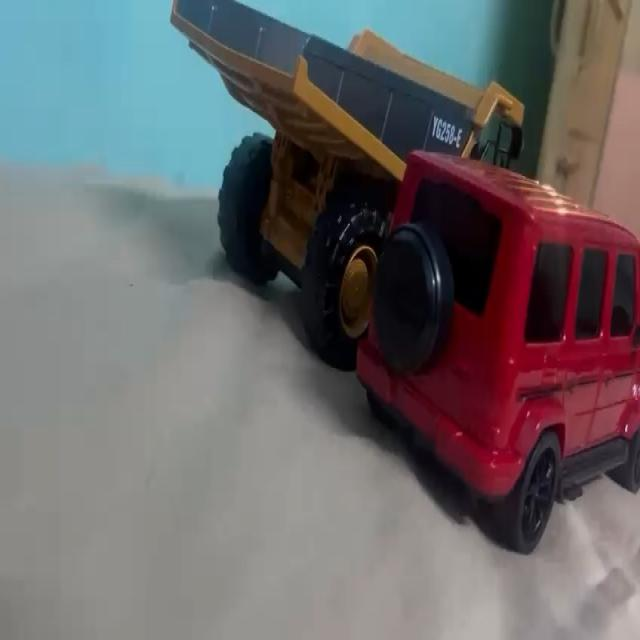dump_truck: (171, 0, 358, 346)
light_vehicle: (382, 139, 640, 515)
